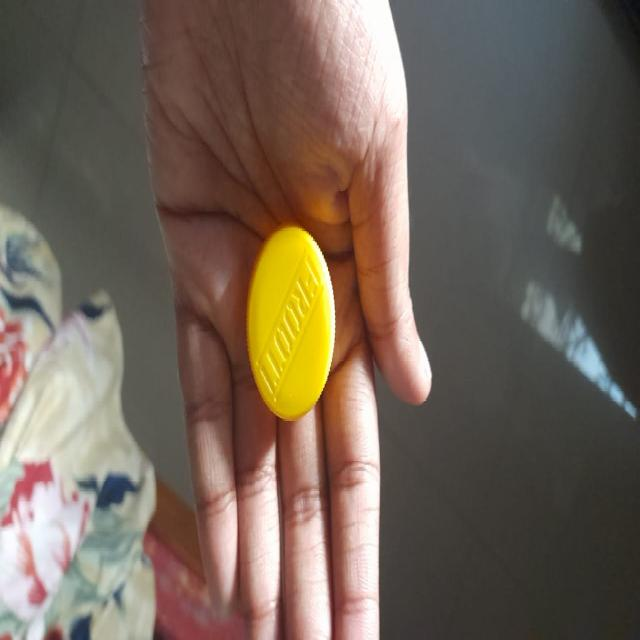Plastic - Recyclable: (245, 221, 336, 422)
